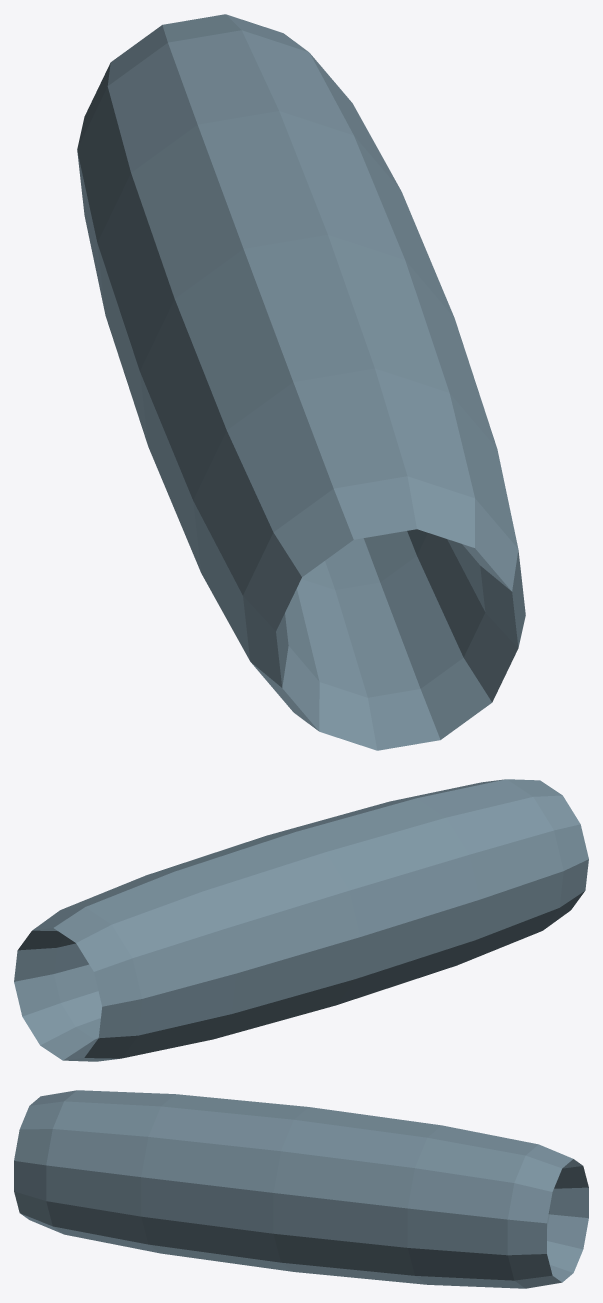
The model's file is astronaut_base_group1015039822_lev4.glb.
3 views of the same model, one above another, from view 1: azimuth 30°, elevation 25°; view 2: azimuth 150°, elevation 25°; view 3: azimuth 270°, elevation 25° (orthographic). The views are drawn at different scales.
Parts seen in each view (by area): view 1: astronaut_base_group1015039822_lev4; view 2: astronaut_base_group1015039822_lev4; view 3: astronaut_base_group1015039822_lev4.
Boxes of the visible parts, bbox=[...] form: astronaut_base_group1015039822_lev4: bbox=[77, 14, 525, 750]; astronaut_base_group1015039822_lev4: bbox=[14, 779, 588, 1061]; astronaut_base_group1015039822_lev4: bbox=[14, 1090, 588, 1288].
Size of the model in its own units: 0.1011 by 0.0549 by 0.1857.
